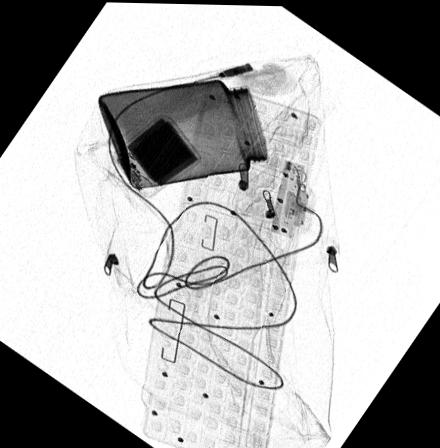Powerbank: (111, 113, 200, 197)
